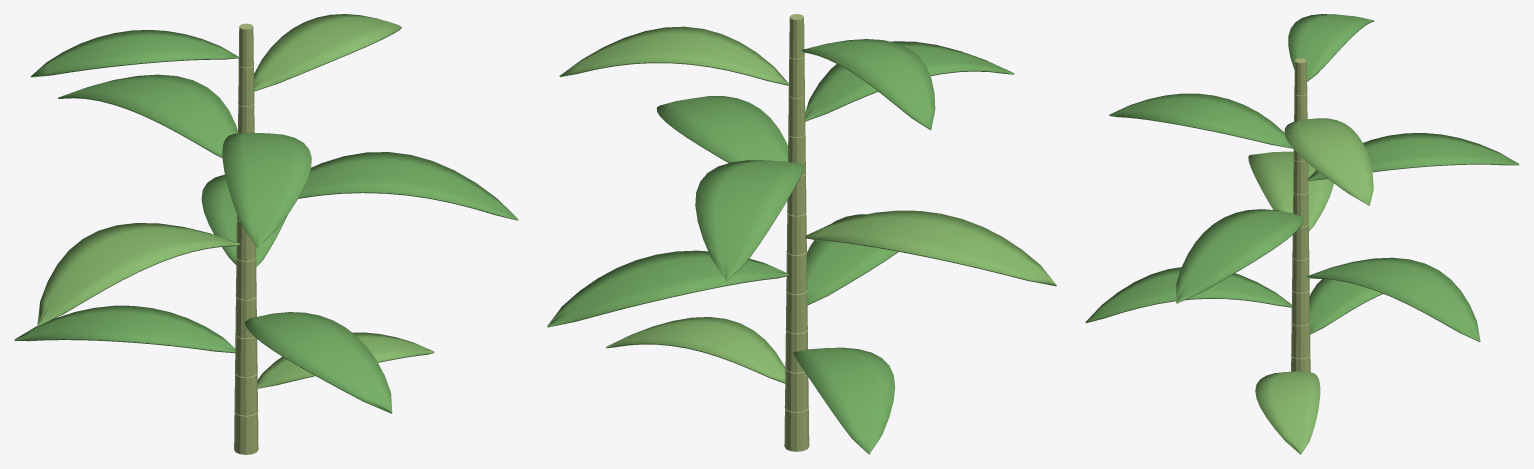
3 renders of one model, left to right at view 1: azimuth 30°, elevation 25°; view 2: azimuth 150°, elevation 25°; view 3: azimuth 270°, elevation 25°, orthographic. The views are drawn at different scales.
Visible parts, largest first — view 1: 叶片_05, 叶片_08, 叶片_03, 叶片_06, 叶片_07, 叶片_02, 叶片_09, 叶片_10, 叶片_01, 叶片_04, 茎节_01, 茎节_02 (+6 smaller); view 2: 叶片_05, 叶片_07, 叶片_04, 叶片_02, 叶片_09, 叶片_06, 叶片_10, 叶片_01, 叶片_08, 叶片_03, 茎节_01, 茎节_02 (+9 smaller); view 3: 叶片_06, 叶片_04, 叶片_08, 叶片_09, 叶片_07, 叶片_03, 叶片_01, 叶片_10, 叶片_05, 叶片_02, 茎节_03, 茎节_04 (+4 smaller).
Part boxes in pixels (x1=…): 叶片_05: x1=37, y1=223, x2=239, y2=326; 叶片_08: x1=222, y1=132, x2=311, y2=247; 叶片_03: x1=245, y1=312, x2=392, y2=413; 叶片_06: x1=298, y1=152, x2=518, y2=220; 叶片_07: x1=58, y1=74, x2=237, y2=157; 叶片_02: x1=14, y1=305, x2=235, y2=353; 叶片_09: x1=254, y1=14, x2=401, y2=91; 叶片_10: x1=31, y1=29, x2=238, y2=77; 叶片_01: x1=257, y1=332, x2=434, y2=388; 叶片_04: x1=201, y1=174, x2=287, y2=266; 茎节_01: x1=234, y1=413, x2=258, y2=454; 茎节_02: x1=234, y1=374, x2=257, y2=415; 叶片_05: x1=805, y1=210, x2=1056, y2=286; 叶片_07: x1=695, y1=160, x2=803, y2=280; 叶片_04: x1=547, y1=250, x2=788, y2=327; 叶片_02: x1=793, y1=347, x2=895, y2=454; 叶片_09: x1=559, y1=26, x2=788, y2=85; 叶片_06: x1=657, y1=96, x2=787, y2=162; 叶片_10: x1=801, y1=39, x2=935, y2=130; 叶片_01: x1=606, y1=317, x2=785, y2=383; 叶片_08: x1=805, y1=41, x2=1014, y2=121; 叶片_03: x1=807, y1=214, x2=898, y2=305; 茎节_01: x1=784, y1=409, x2=809, y2=451; 茎节_02: x1=785, y1=370, x2=808, y2=412; 叶片_06: x1=1176, y1=209, x2=1303, y2=303; 叶片_04: x1=1306, y1=257, x2=1480, y2=341; 叶片_08: x1=1109, y1=93, x2=1292, y2=148; 叶片_09: x1=1284, y1=118, x2=1373, y2=205; 叶片_07: x1=1308, y1=133, x2=1519, y2=180; 叶片_03: x1=1085, y1=267, x2=1292, y2=323; 叶片_01: x1=1255, y1=371, x2=1320, y2=454; 叶片_10: x1=1288, y1=14, x2=1373, y2=81; 叶片_05: x1=1248, y1=151, x2=1333, y2=230; 叶片_02: x1=1309, y1=279, x2=1382, y2=334; 茎节_03: x1=1291, y1=323, x2=1310, y2=358; 茎节_04: x1=1291, y1=291, x2=1309, y2=325.
Size of the model in its own units: 1.3 by 1.22 by 1.34.
